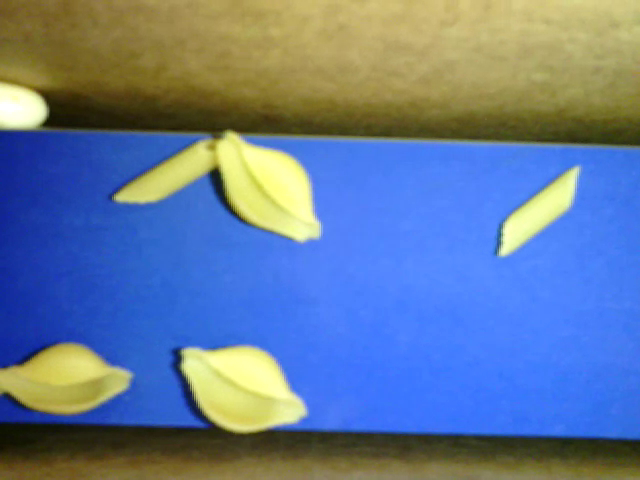penne: (498, 165, 580, 259), (110, 140, 219, 203)
shell: (216, 130, 321, 244), (181, 342, 308, 433), (1, 343, 135, 413)
